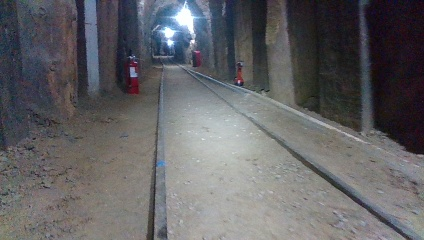backpack: (191, 48, 203, 70)
drill: (231, 59, 244, 89)
fire_extinguisher: (123, 47, 140, 96)
